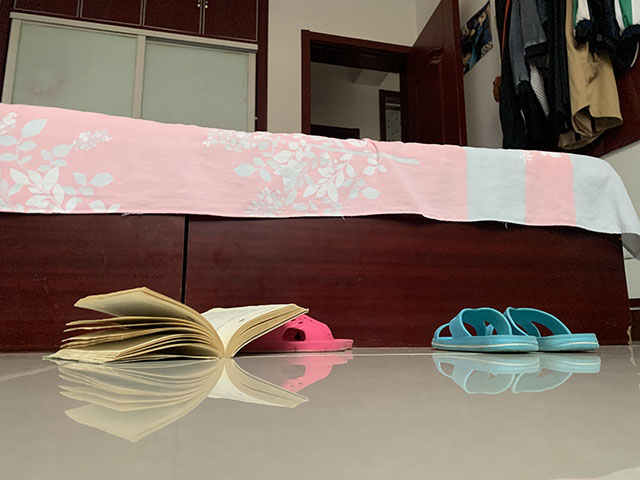bed: (1, 101, 640, 354)
book: (41, 285, 310, 367)
slippers: (431, 306, 539, 354), (506, 303, 601, 355), (241, 313, 355, 354)
